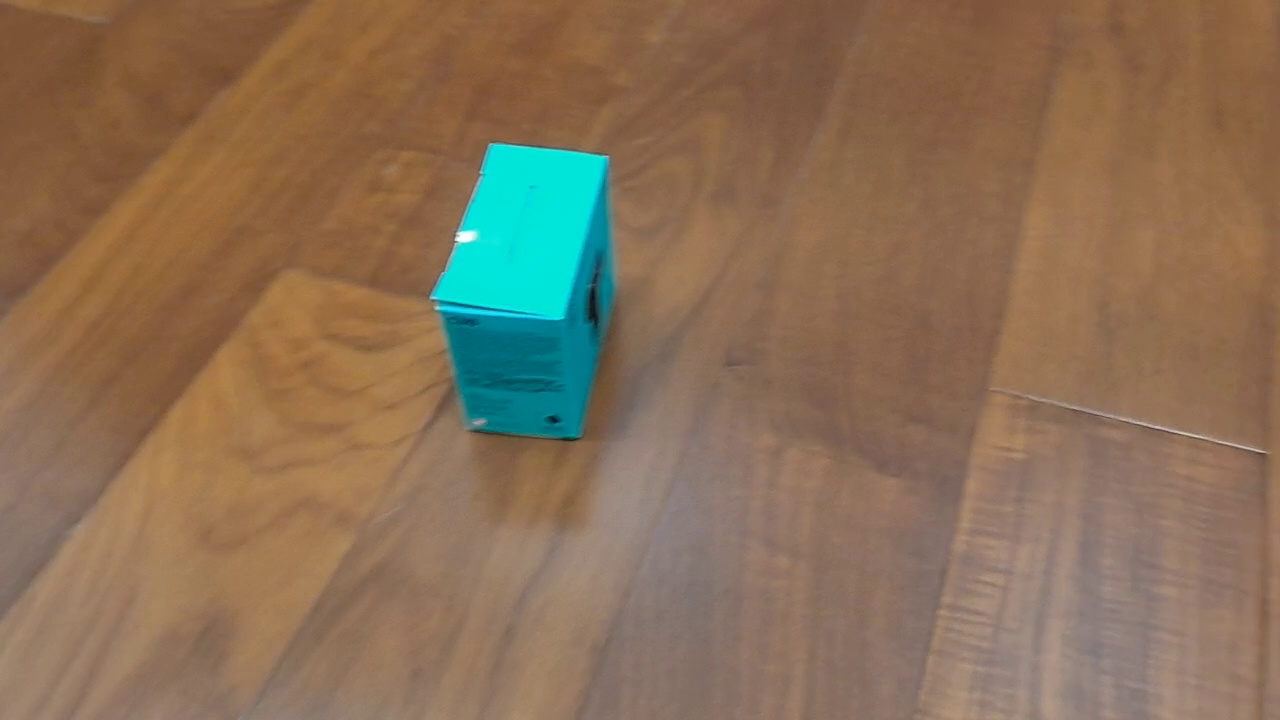webcam: (428, 140, 619, 442)
